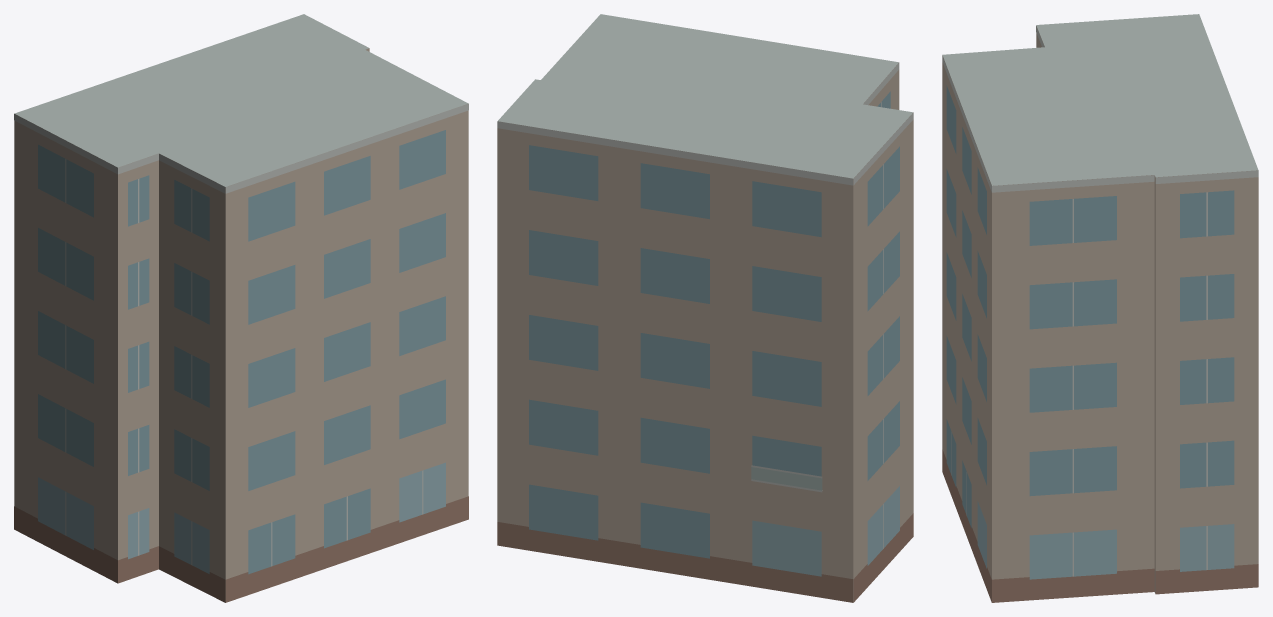
Rendered from survey-upis-32696237.glb.
3 views of the same model, side by side, from view 1: azimuth 30°, elevation 25°; view 2: azimuth 150°, elevation 25°; view 3: azimuth 270°, elevation 25° (orthographic). The views are drawn at different scales.
Parts seen in each view (by area): view 1: survey-upis-32696237.tmp; view 2: survey-upis-32696237.tmp; view 3: survey-upis-32696237.tmp.
Boxes of the visible parts, <box> form: survey-upis-32696237.tmp: <box>14,14,468,602</box>; survey-upis-32696237.tmp: <box>497,14,913,602</box>; survey-upis-32696237.tmp: <box>942,14,1258,602</box>.
Size of the model in its own units: 13.09 by 14.8 by 10.18.
